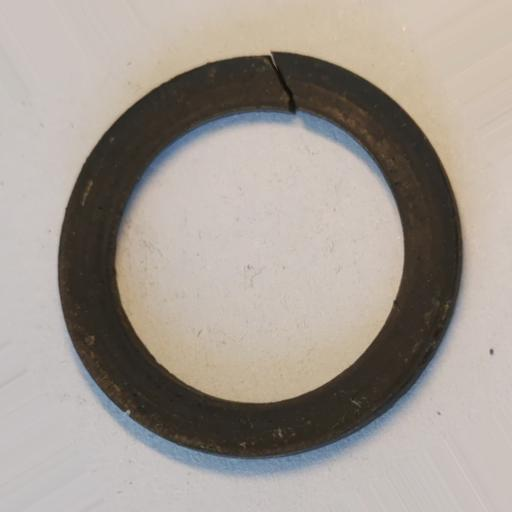defect: (266, 49, 300, 114)
